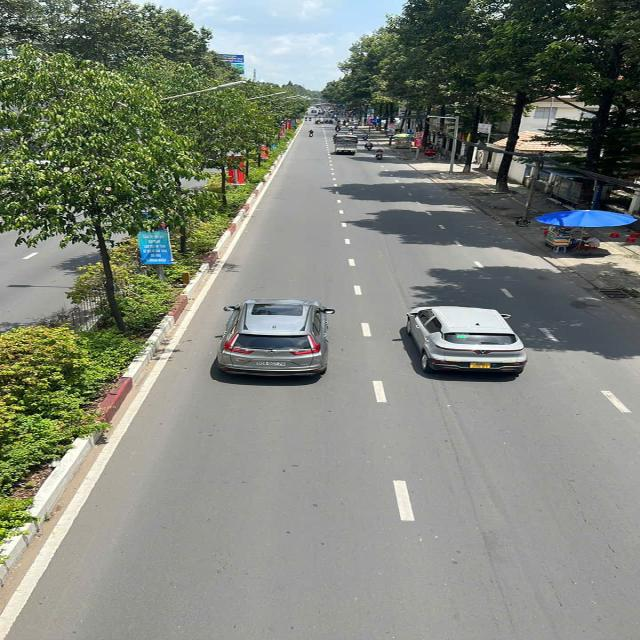ben: (328, 129, 363, 159)
car: (210, 297, 346, 382), (401, 300, 538, 382)
